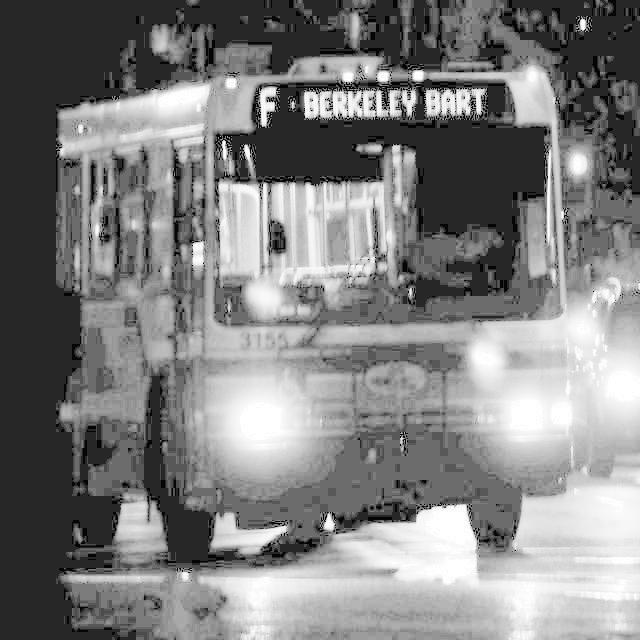Bus: (27, 59, 608, 567)
Car: (574, 264, 640, 534)
